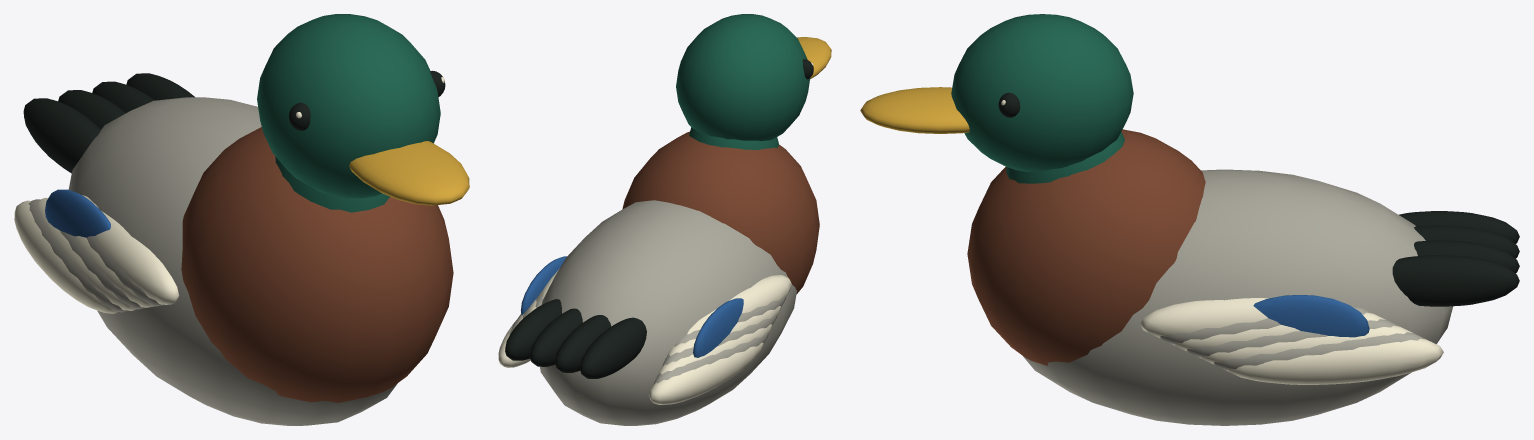
The model's file is duck.glb.
The picture shows the model from 3 angles, left to right: view 1: azimuth 30°, elevation 25°; view 2: azimuth 150°, elevation 25°; view 3: azimuth 270°, elevation 25°; orthographic projection. The views are drawn at different scales.
Visible parts, largest first — view 1: Breast, Body, Head, Bill, Tail feather, Layered wing feather, Layered wing feather.006, Blue wing bar, Neck, Tail feather.001, Layered wing feather.005, Tail feather.003 (+6 smaller); view 2: Body, Breast, Head, Layered wing feather.006, Tail feather, Tail feather.003, Tail feather.001, Tail feather.002, Blue wing bar, Layered wing feather, Layered wing feather.005, Neck (+7 smaller); view 3: Body, Breast, Head, Layered wing feather.013, Tail feather.003, Bill, Blue wing bar.001, Layered wing feather.007, Layered wing feather.012, Tail feather, Layered wing feather.011, Tail feather.002 (+5 smaller).
Part boxes in pixels (box(x1,y1,x2,y2)): Breast: box(181, 127, 453, 402); Body: box(68, 97, 397, 425); Head: box(257, 14, 440, 198); Bill: box(349, 141, 469, 205); Tail feather: box(23, 98, 100, 173); Layered wing feather: box(82, 195, 179, 304); Layered wing feather.006: box(14, 200, 118, 313); Blue wing bar: box(45, 189, 110, 237); Neck: box(275, 156, 390, 212); Tail feather.001: box(58, 90, 125, 129); Layered wing feather.005: box(28, 199, 127, 312); Tail feather.003: box(126, 73, 194, 100); Body: box(540, 200, 796, 425); Breast: box(622, 131, 819, 294); Head: box(676, 14, 810, 140); Layered wing feather.006: box(648, 342, 764, 404); Tail feather: box(580, 317, 646, 378); Tail feather.003: box(505, 299, 561, 360); Tail feather.001: box(555, 315, 611, 372); Tail feather.002: box(530, 308, 582, 366); Blue wing bar: box(693, 298, 743, 357); Layered wing feather: box(687, 275, 791, 334); Layered wing feather.005: box(654, 333, 768, 383); Neck: box(689, 127, 778, 149); Body: box(1023, 169, 1452, 425); Breast: box(967, 129, 1205, 365); Head: box(951, 14, 1133, 171); Layered wing feather.013: box(1226, 338, 1443, 384); Tail feather.003: box(1392, 255, 1519, 306); Bill: box(860, 87, 969, 133); Blue wing bar.001: box(1253, 295, 1369, 337); Layered wing feather.007: box(1140, 298, 1268, 337); Layered wing feather.012: box(1213, 332, 1426, 370); Tail feather: box(1399, 211, 1519, 243); Layered wing feather.011: box(1199, 325, 1412, 364); Tail feather.002: box(1414, 240, 1519, 273).
Size of the model in its own units: 0.5427 by 0.81 by 1.23.
